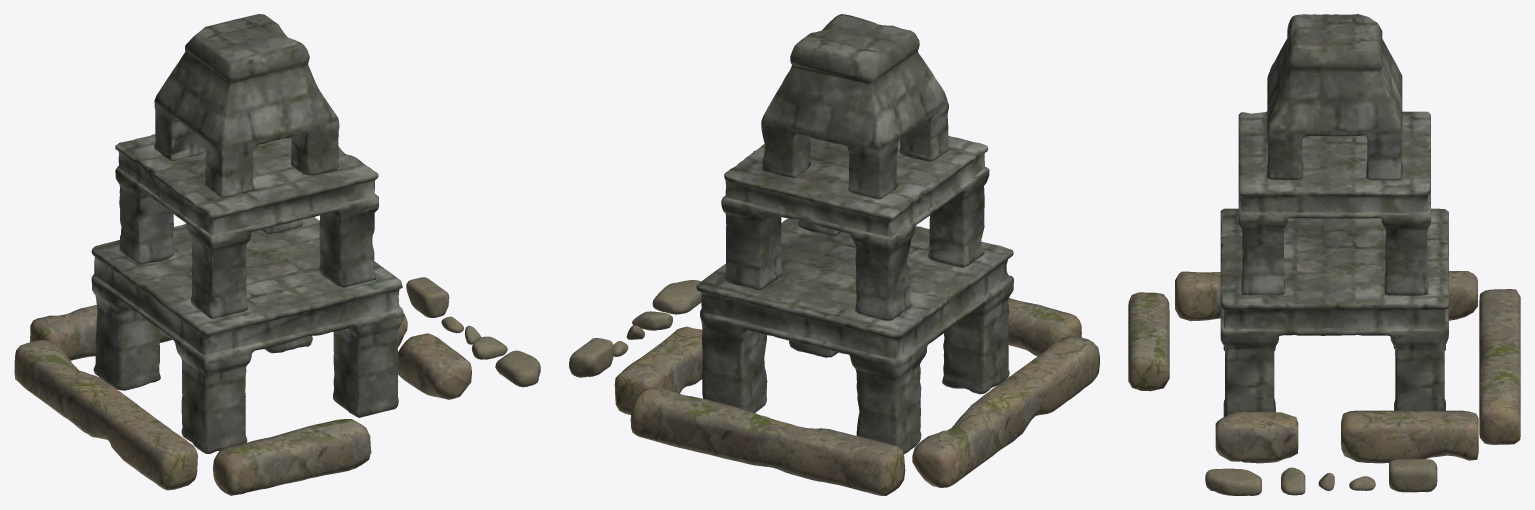
File: old_ruined_temple.glb
3 views of the same model, side by side, from view 1: azimuth 30°, elevation 25°; view 2: azimuth 150°, elevation 25°; view 3: azimuth 270°, elevation 25° (orthographic). The views are drawn at different scales.
Visible parts, largest first — view 1: defaultMaterial (×3); view 2: defaultMaterial (×3); view 3: defaultMaterial (×3).
Boxes of the visible parts, x1,y1,x2,y2 form: defaultMaterial (×3): [14, 14, 540, 495]; defaultMaterial (×3): [569, 14, 1099, 495]; defaultMaterial (×3): [1128, 14, 1520, 495].
Bounding box in the file's own units: 2 × 1.7 × 1.71.
Materials: 3 (3 with a texture image).
